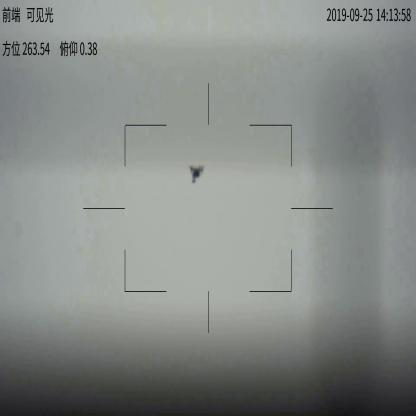uav: (188, 165, 206, 186)
